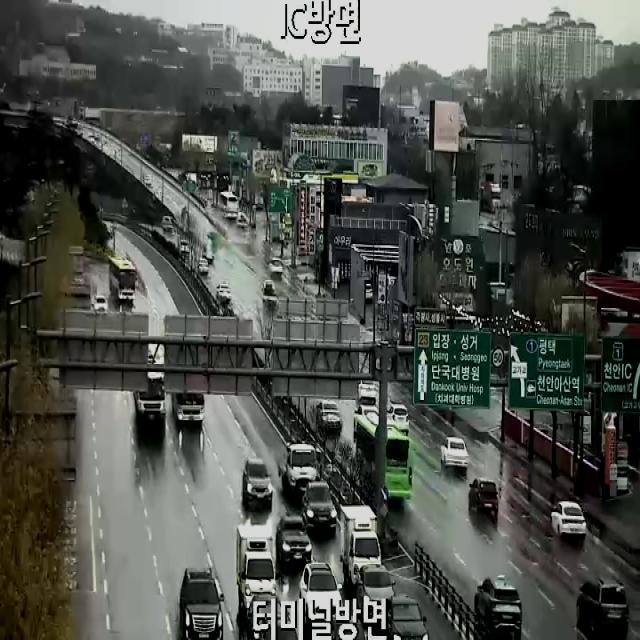Bus: (353, 415, 412, 498), (108, 256, 136, 300), (172, 393, 204, 427), (220, 192, 238, 218)
Car: (179, 566, 224, 640), (577, 576, 629, 640), (237, 526, 276, 609), (341, 505, 381, 584), (474, 574, 522, 634), (301, 562, 342, 625), (247, 596, 298, 640), (356, 566, 396, 618), (387, 597, 429, 640), (302, 482, 337, 530), (276, 516, 312, 562), (243, 458, 273, 508), (551, 501, 585, 538), (468, 478, 498, 516), (440, 437, 470, 468), (316, 400, 342, 432), (386, 404, 409, 436), (358, 379, 378, 404), (261, 280, 279, 305), (269, 258, 283, 277), (216, 284, 231, 300), (355, 406, 379, 416), (162, 216, 174, 235), (94, 294, 108, 310), (198, 258, 209, 273), (180, 240, 190, 253)
Truck: (279, 444, 317, 492), (134, 371, 166, 422)
